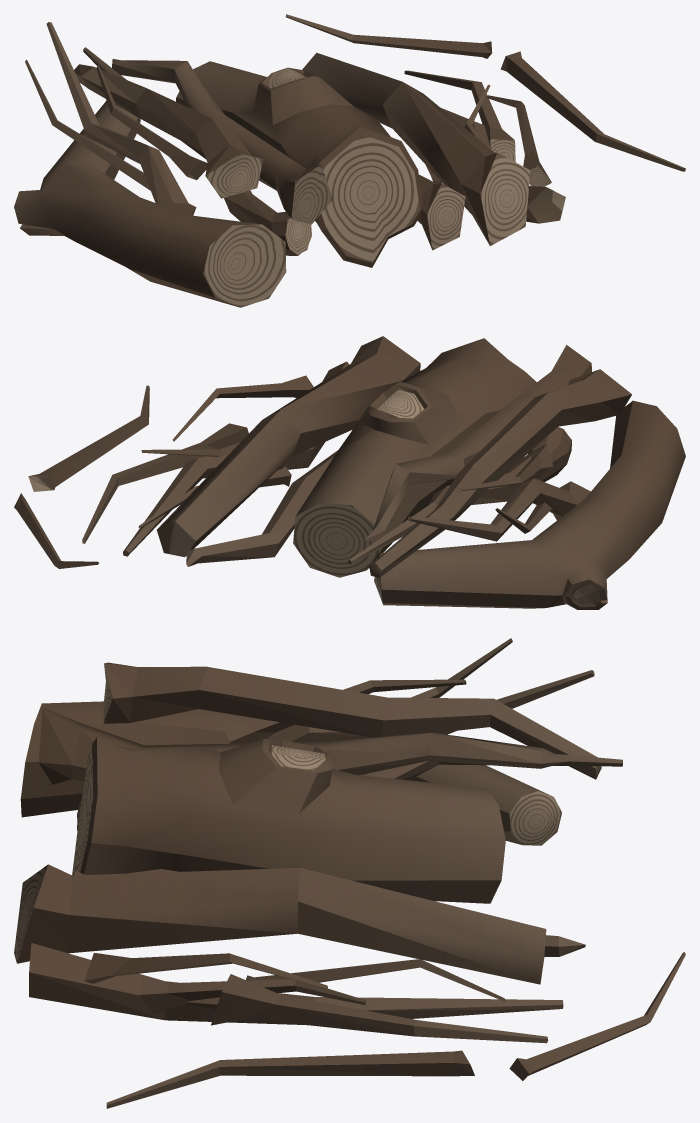
File: PT_Fruit_Tree_01_logs.glb
3 views of the same model, one above another, from view 1: azimuth 30°, elevation 25°; view 2: azimuth 150°, elevation 25°; view 3: azimuth 270°, elevation 25° (orthographic). The views are drawn at different scales.
Visible parts, largest first — view 1: PT_Fruit_Tree_01_logs; view 2: PT_Fruit_Tree_01_logs; view 3: PT_Fruit_Tree_01_logs.
Part boxes in pixels (x1,y1,x2,y2): PT_Fruit_Tree_01_logs: (14,14,685,307); PT_Fruit_Tree_01_logs: (14,336,685,609); PT_Fruit_Tree_01_logs: (14,638,685,1108).
Bounding box in the file's own units: 2.71 × 0.6733 × 2.17.
Materials: 1 (1 with a texture image).
